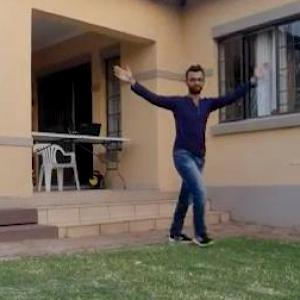takeoff: (107, 61, 270, 246)
